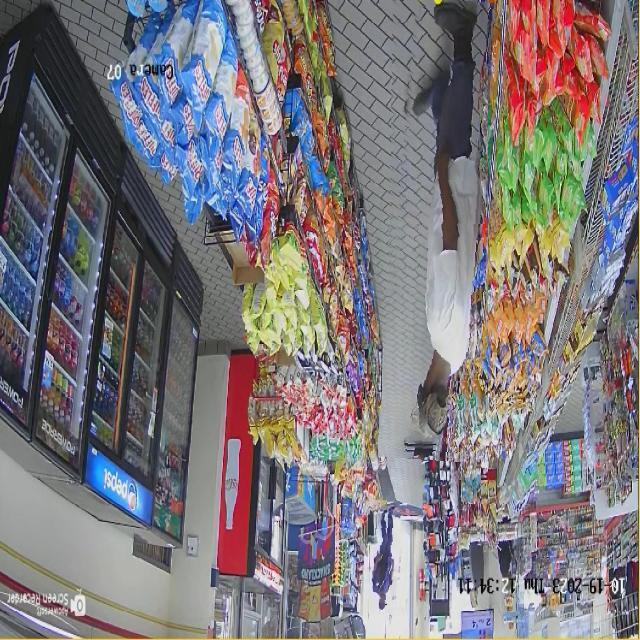Normal: (386, 0, 488, 461), (370, 500, 400, 613)
